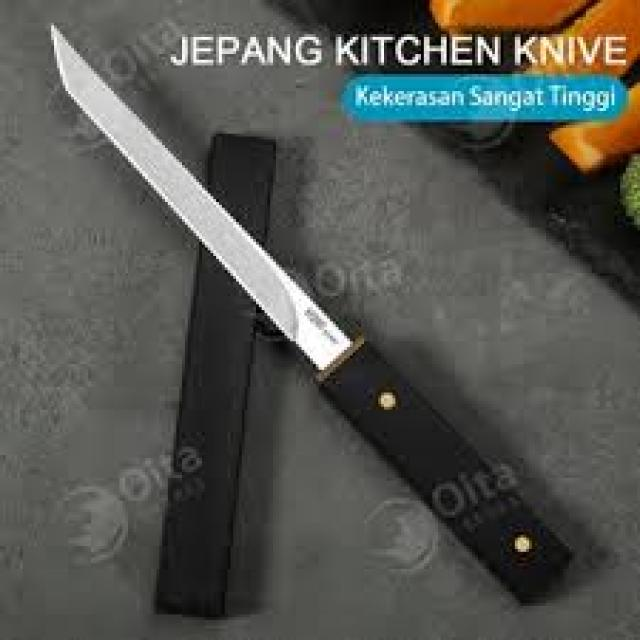Knife: (51, 23, 569, 600)
